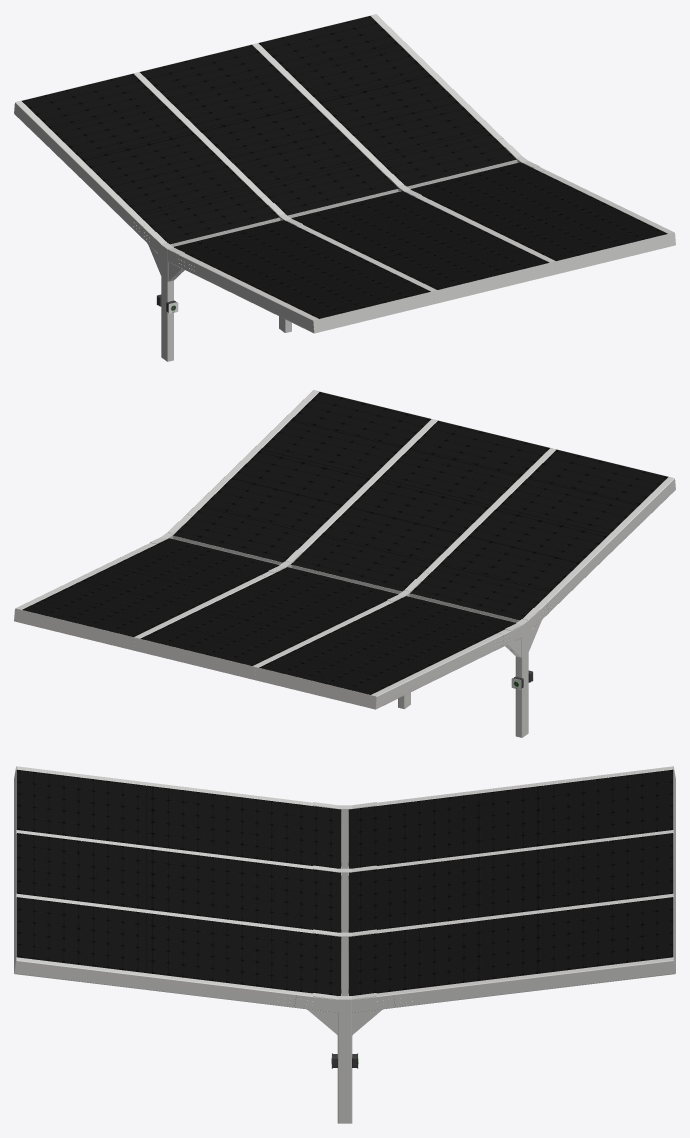
The model's file is oldPac_6.glb.
3 renders of one model, top to bottom at view 1: azimuth 30°, elevation 25°; view 2: azimuth 150°, elevation 25°; view 3: azimuth 270°, elevation 25°, orthographic. The views are drawn at different scales.
Visible parts, largest first — view 1: Left.137, Left.122, Left.132, Left.113, Left.117, Left.140, Left.129; view 2: Left.137, Left.122, Left.132, Left.113, Left.117, Left.140, Left.129; view 3: Left.137, Left.122, Left.117, Left.132, Left.125, Left.113, Left.140, Plane.011.
Boxes of the visible parts, <box> form: Left.137: <box>22,45,549,318</box>; Left.122: <box>259,16,667,260</box>; Left.132: <box>14,72,436,332</box>; Left.113: <box>14,14,675,333</box>; Left.117: <box>252,14,673,262</box>; Left.140: <box>161,214,291,361</box>; Left.129: <box>170,189,400,246</box>; Left.137: <box>140,421,667,694</box>; Left.122: <box>22,392,430,636</box>; Left.132: <box>252,448,675,708</box>; Left.113: <box>14,390,675,709</box>; Left.117: <box>16,390,437,638</box>; Left.140: <box>398,590,528,737</box>; Left.129: <box>289,565,519,622</box>; Left.137: <box>16,769,673,932</box>; Left.122: <box>16,897,673,995</box>; Left.117: <box>14,893,675,1012</box>; Left.132: <box>16,766,673,869</box>; Left.125: <box>337,932,352,1123</box>; Left.113: <box>14,766,675,973</box>; Left.140: <box>337,805,352,932</box>; Plane.011: <box>308,1010,381,1034</box>.
Bounding box in the file's own units: 8.1 × 3.15 × 11.57.
Materials: 6 (5 with a texture image).
